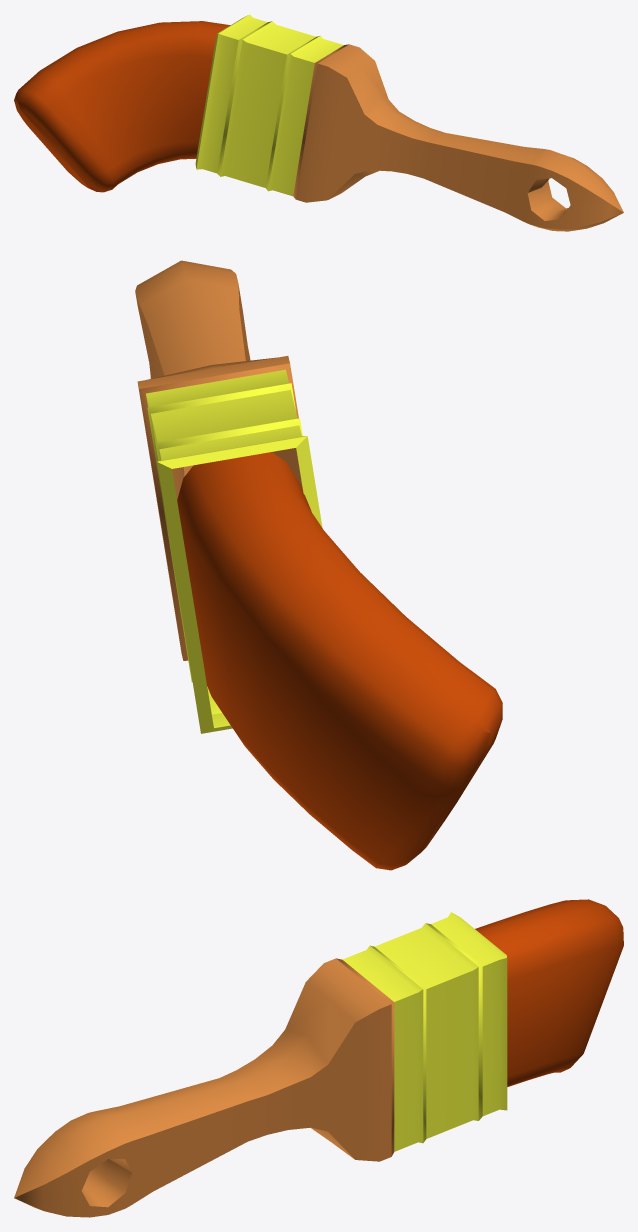
The model's file is MSHQ.FBX.
3 views of the same model, one above another, from view 1: azimuth 30°, elevation 25°; view 2: azimuth 150°, elevation 25°; view 3: azimuth 270°, elevation 25° (orthographic). The views are drawn at different scales.
Parts seen in each view (by area): view 1: shuabing001, mao001; view 2: mao001, shuabing001; view 3: shuabing001, mao001.
Boxes of the visible parts, left/top/right/bottom form: shuabing001: left=195, top=14, right=623, bottom=231; mao001: left=14, top=21, right=230, bottom=192; mao001: left=177, top=452, right=502, bottom=870; shuabing001: left=135, top=260, right=322, bottom=733; shuabing001: left=14, top=912, right=507, bottom=1217; mao001: left=475, top=899, right=623, bottom=1086.
Size of the model in its own units: 5.44 by 2.24 by 5.92.
